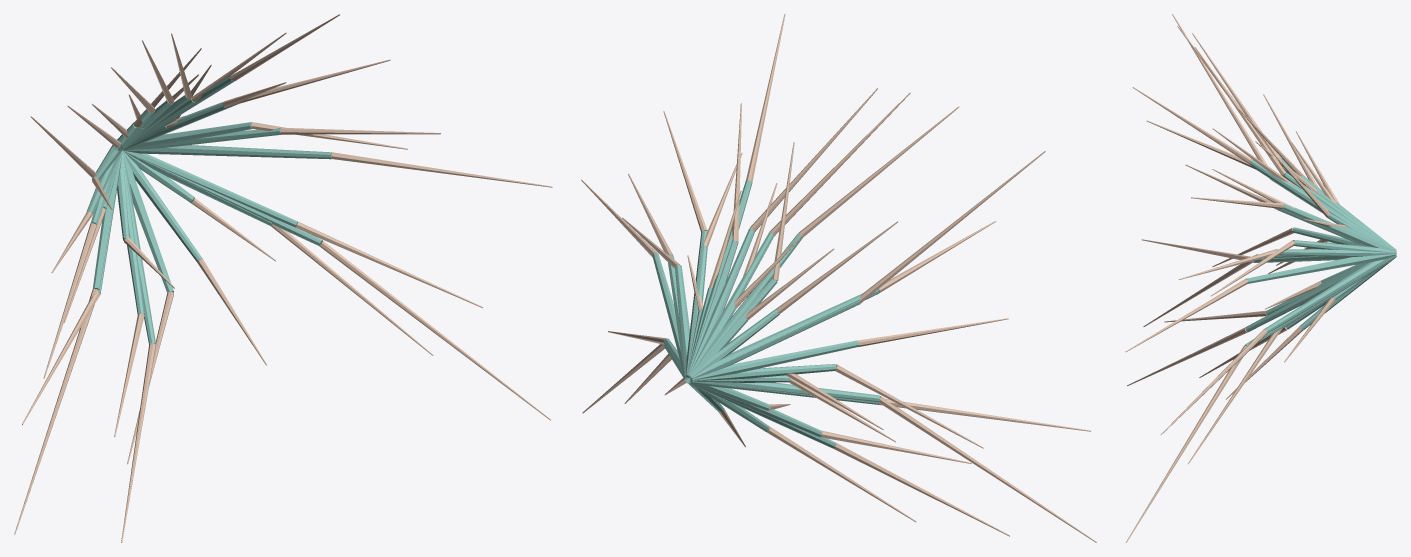
File: Aquarion_Sea_Fan_Colony.glb
The picture shows the model from 3 angles, left to right: view 1: azimuth 30°, elevation 25°; view 2: azimuth 150°, elevation 25°; view 3: azimuth 270°, elevation 25°; orthographic projection. The views are drawn at different scales.
Visible parts, largest first — view 1: Aquarion_Sea_Fan_Colony_a12, Aquarion_Sea_Fan_Colony_a16, Aquarion_Sea_Fan_Colony_b21, Aquarion_Sea_Fan_Colony_a33, Aquarion_Sea_Fan_Colony_a22, Aquarion_Sea_Fan_Colony_b25, Aquarion_Sea_Fan_Colony_b12, Aquarion_Sea_Fan_Colony_a24, Aquarion_Sea_Fan_Colony_b11, Aquarion_Sea_Fan_Colony_a11, Aquarion_Sea_Fan_Colony_b16, Aquarion_Sea_Fan_Colony_a21 (+8 smaller); view 2: Aquarion_Sea_Fan_Colony_a20, Aquarion_Sea_Fan_Colony_a14, Aquarion_Sea_Fan_Colony_b25, Aquarion_Sea_Fan_Colony_a26, Aquarion_Sea_Fan_Colony_a25, Aquarion_Sea_Fan_Colony_b6, Aquarion_Sea_Fan_Colony_a4, Aquarion_Sea_Fan_Colony_a0, Aquarion_Sea_Fan_Colony_a1, Aquarion_Sea_Fan_Colony_b1, Aquarion_Sea_Fan_Colony_b11, Aquarion_Sea_Fan_Colony_b10 (+16 smaller); view 3: Aquarion_Sea_Fan_Colony_a12, Aquarion_Sea_Fan_Colony_a16, Aquarion_Sea_Fan_Colony_a11, Aquarion_Sea_Fan_Colony_b21, Aquarion_Sea_Fan_Colony_a2, Aquarion_Sea_Fan_Colony_a15, Aquarion_Sea_Fan_Colony_a7, Aquarion_Sea_Fan_Colony_b6, Aquarion_Sea_Fan_Colony_a24, Aquarion_Sea_Fan_Colony_b30, Aquarion_Sea_Fan_Colony_b26, Aquarion_Sea_Fan_Colony_b16 (+20 smaller).
Boxes of the visible parts, x1,y1,x2,y2 form: Aquarion_Sea_Fan_Colony_a12: (123, 145, 331, 159); Aquarion_Sea_Fan_Colony_a16: (123, 150, 297, 227); Aquarion_Sea_Fan_Colony_b21: (319, 241, 550, 420); Aquarion_Sea_Fan_Colony_a33: (122, 151, 173, 292); Aquarion_Sea_Fan_Colony_a22: (123, 151, 202, 261); Aquarion_Sea_Fan_Colony_b25: (14, 288, 98, 534); Aquarion_Sea_Fan_Colony_b12: (331, 152, 552, 187); Aquarion_Sea_Fan_Colony_a24: (124, 122, 252, 150); Aquarion_Sea_Fan_Colony_b11: (121, 343, 155, 542); Aquarion_Sea_Fan_Colony_a11: (122, 152, 155, 344); Aquarion_Sea_Fan_Colony_b16: (296, 222, 482, 308); Aquarion_Sea_Fan_Colony_a21: (123, 151, 322, 245); Aquarion_Sea_Fan_Colony_a20: (691, 340, 858, 383); Aquarion_Sea_Fan_Colony_a14: (691, 289, 879, 378); Aquarion_Sea_Fan_Colony_b25: (878, 396, 1096, 542); Aquarion_Sea_Fan_Colony_a26: (688, 228, 754, 376); Aquarion_Sea_Fan_Colony_a25: (691, 381, 880, 401); Aquarion_Sea_Fan_Colony_b6: (859, 151, 1045, 303); Aquarion_Sea_Fan_Colony_a4: (690, 232, 774, 373); Aquarion_Sea_Fan_Colony_a0: (694, 364, 836, 380); Aquarion_Sea_Fan_Colony_a1: (690, 233, 802, 376); Aquarion_Sea_Fan_Colony_b1: (798, 106, 959, 237); Aquarion_Sea_Fan_Colony_b11: (833, 442, 1009, 536); Aquarion_Sea_Fan_Colony_b10: (879, 399, 1090, 431); Aquarion_Sea_Fan_Colony_a12: (1246, 254, 1396, 283); Aquarion_Sea_Fan_Colony_a16: (1264, 255, 1396, 333); Aquarion_Sea_Fan_Colony_a11: (1245, 262, 1369, 332); Aquarion_Sea_Fan_Colony_b21: (1126, 345, 1246, 542); Aquarion_Sea_Fan_Colony_a2: (1249, 159, 1395, 249); Aquarion_Sea_Fan_Colony_a15: (1275, 249, 1396, 257); Aquarion_Sea_Fan_Colony_a7: (1282, 203, 1396, 251); Aquarion_Sea_Fan_Colony_b6: (1172, 14, 1267, 165); Aquarion_Sea_Fan_Colony_a24: (1293, 240, 1396, 252); Aquarion_Sea_Fan_Colony_b30: (1188, 328, 1282, 464); Aquarion_Sea_Fan_Colony_b26: (1194, 47, 1285, 175); Aquarion_Sea_Fan_Colony_b16: (1160, 329, 1267, 434).
Bounding box in the file's own units: 3.09 × 2.64 × 1.67.
